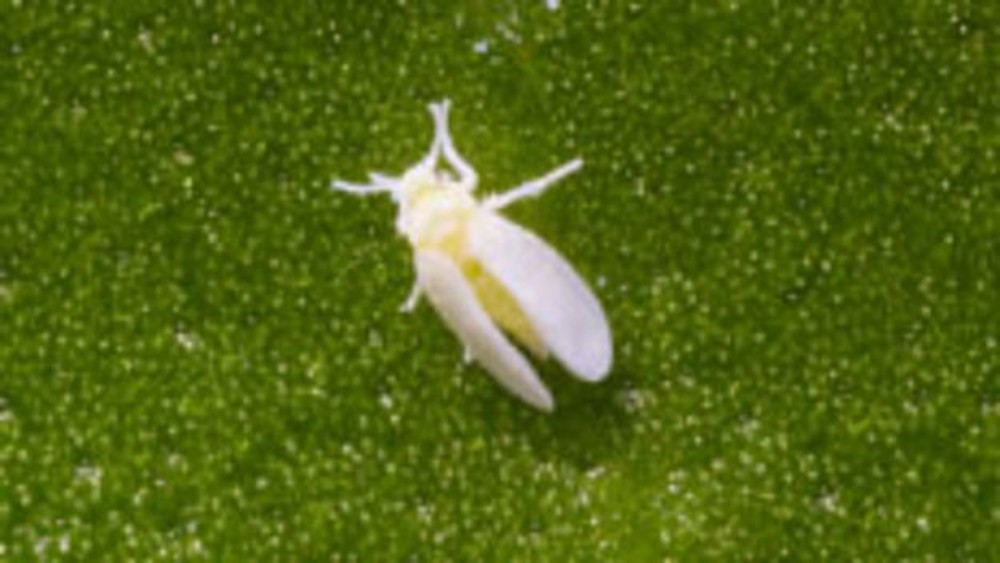Mosca Blanca: (319, 105, 646, 414)
